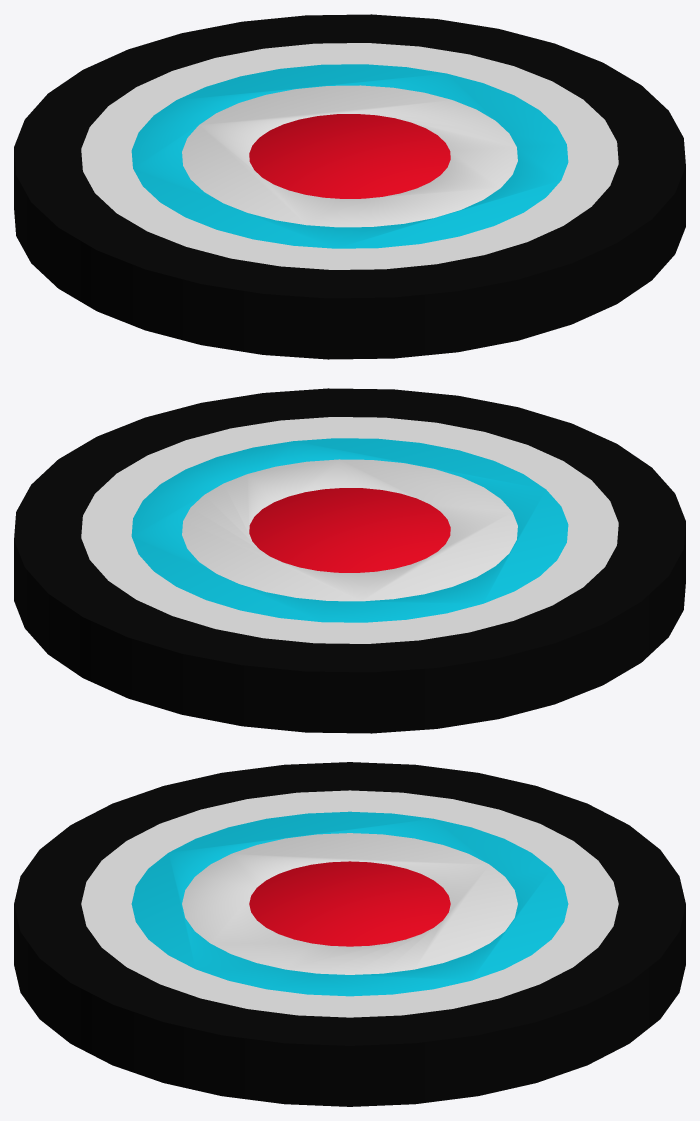
File: target.fbx
3 renders of one model, top to bottom at view 1: azimuth 30°, elevation 25°; view 2: azimuth 150°, elevation 25°; view 3: azimuth 270°, elevation 25°, orthographic.
Parts seen in each view (by area): view 1: Cylinder, Cylinder.005, Cylinder.002, Cylinder.004, Cylinder.003; view 2: Cylinder, Cylinder.005, Cylinder.002, Cylinder.004, Cylinder.003; view 3: Cylinder, Cylinder.005, Cylinder.002, Cylinder.004, Cylinder.003.
Boxes of the visible parts, bbox=[...] form: Cylinder: bbox=[14, 14, 685, 359]; Cylinder.005: bbox=[81, 43, 618, 269]; Cylinder.002: bbox=[131, 64, 568, 248]; Cylinder.004: bbox=[182, 85, 517, 227]; Cylinder.003: bbox=[249, 114, 450, 198]; Cylinder: bbox=[14, 388, 685, 733]; Cylinder.005: bbox=[81, 417, 618, 643]; Cylinder.002: bbox=[131, 438, 568, 622]; Cylinder.004: bbox=[182, 459, 517, 601]; Cylinder.003: bbox=[249, 488, 450, 572]; Cylinder: bbox=[14, 762, 685, 1106]; Cylinder.005: bbox=[81, 790, 618, 1017]; Cylinder.002: bbox=[131, 811, 568, 996]; Cylinder.004: bbox=[182, 833, 517, 974]; Cylinder.003: bbox=[249, 861, 450, 946].
Size of the model in its own units: 200 by 20 by 200.
